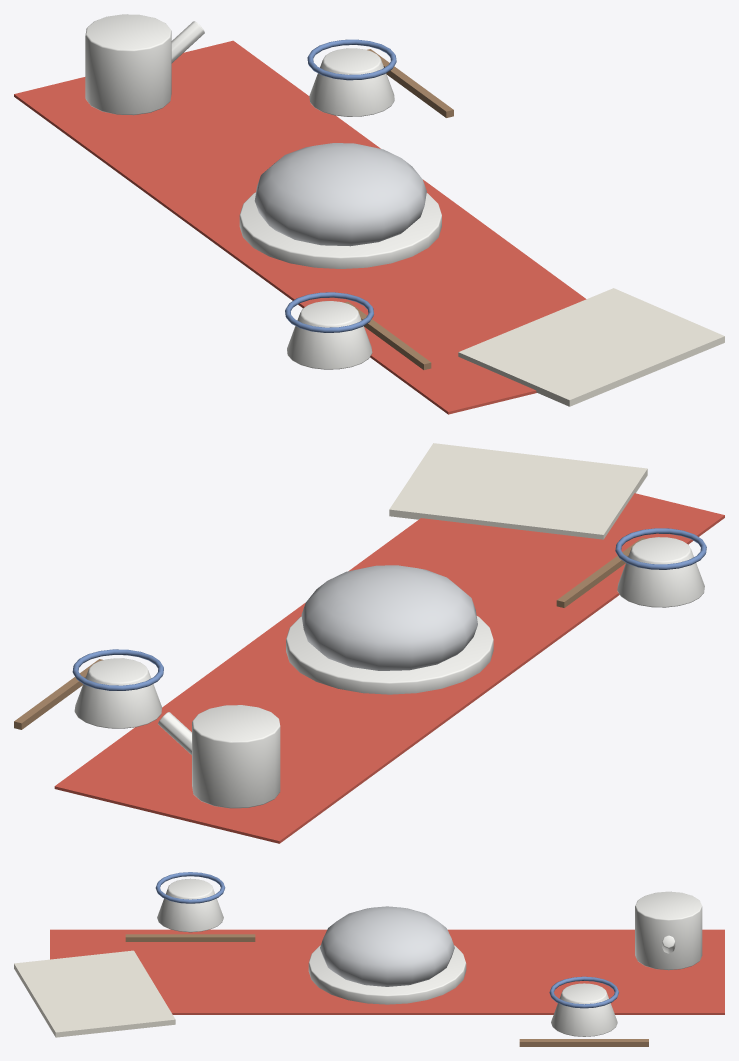
Rendered from v2_dining_setting.fbx.
3 renders of one model, top to bottom at view 1: azimuth 30°, elevation 25°; view 2: azimuth 150°, elevation 25°; view 3: azimuth 270°, elevation 25°, orthographic. The views are drawn at different scales.
Visible parts, largest first — view 1: Runner, Newspaper, Cover, Teapot, Plate, Bowl, Bowl.001, BowlRim.001, BowlRim, Chopsticks.001, Chopsticks, TeapotSpout; view 2: Runner, Newspaper, Cover, Teapot, Plate, Bowl, Bowl.001, BowlRim, BowlRim.001, Chopsticks.001, Chopsticks, TeapotSpout; view 3: Runner, Newspaper, Cover, Teapot, Plate, Bowl, Bowl.001, Chopsticks, Chopsticks.001, BowlRim, BowlRim.001.
Boxes of the visible parts, <box> form: Runner: <box>14,40,586,414</box>; Newspaper: <box>458,288,724,406</box>; Cover: <box>254,143,426,246</box>; Teapot: <box>85,14,171,115</box>; Plate: <box>239,192,441,268</box>; Bowl: <box>287,301,372,369</box>; Bowl.001: <box>309,48,394,116</box>; BowlRim.001: <box>307,39,396,80</box>; BowlRim: <box>285,292,373,332</box>; Chopsticks.001: <box>367,49,453,117</box>; Chopsticks: <box>344,301,431,369</box>; TeapotSpout: <box>171,21,204,63</box>; Runner: <box>54,493,724,843</box>; Newspaper: <box>389,443,647,539</box>; Cover: <box>301,565,477,670</box>; Teapot: <box>192,705,280,808</box>; Plate: <box>286,616,493,694</box>; Bowl: <box>617,537,704,607</box>; Bowl.001: <box>74,658,162,728</box>; BowlRim: <box>615,528,706,569</box>; BowlRim.001: <box>72,649,163,690</box>; Chopsticks.001: <box>14,659,102,729</box>; Chopsticks: <box>556,538,645,607</box>; TeapotSpout: <box>158,712,191,754</box>; Runner: <box>50,929,724,1014</box>; Newspaper: <box>14,950,175,1037</box>; Cover: <box>320,906,454,986</box>; Teapot: <box>635,891,702,970</box>; Plate: <box>308,945,466,1004</box>; Bowl: <box>157,878,223,932</box>; Bowl.001: <box>551,983,617,1036</box>; Chopsticks: <box>125,934,255,941</box>; Chopsticks.001: <box>519,1039,648,1046</box>; BowlRim: <box>155,872,225,903</box>; BowlRim.001: <box>549,976,618,1008</box>.
Size of the model in its own units: 0.598 by 0.12 by 1.26.
